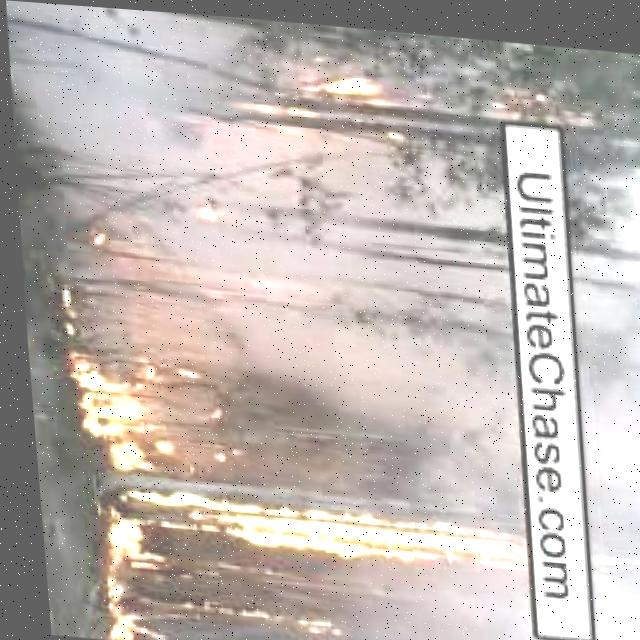Fire: (98, 488, 518, 569), (297, 47, 601, 126), (57, 339, 207, 473), (175, 593, 327, 640), (89, 558, 156, 640)
